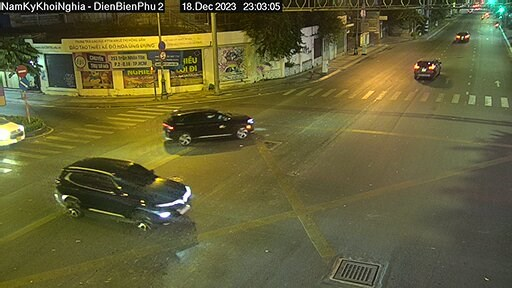car: (57, 157, 190, 231), (157, 106, 257, 143), (412, 47, 445, 85), (458, 26, 474, 46)
